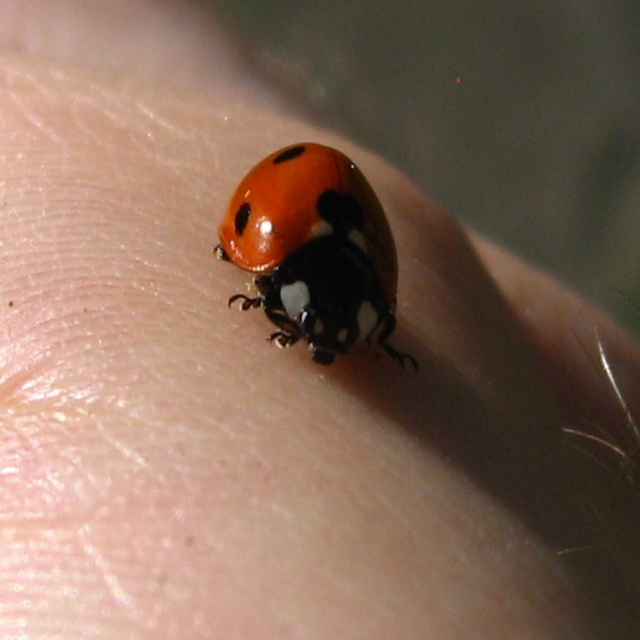Ladybug: (210, 143, 420, 372)
